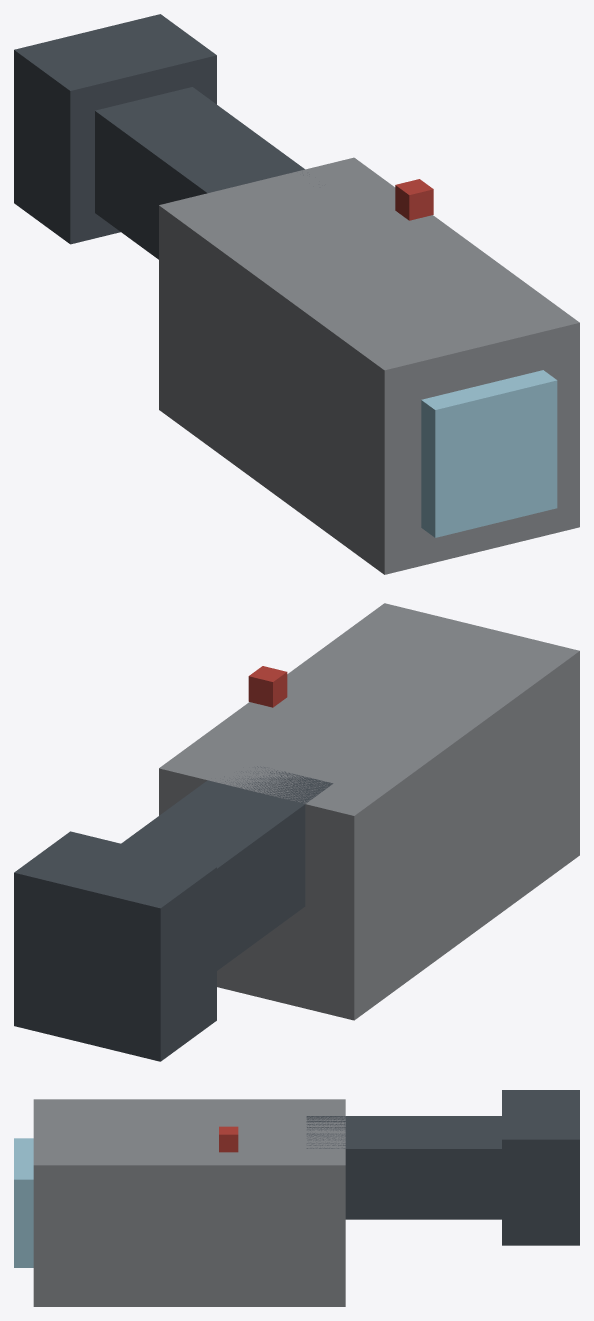
The model's file is GD_SecurityCamera_01.glb.
3 views of the same model, one above another, from view 1: azimuth 30°, elevation 25°; view 2: azimuth 150°, elevation 25°; view 3: azimuth 270°, elevation 25° (orthographic). The views are drawn at different scales.
Parts seen in each view (by area): view 1: GD_SecurityCamera_01; view 2: GD_SecurityCamera_01; view 3: GD_SecurityCamera_01.
Part boxes in pixels (box(x1,y1,x2,y2)): GD_SecurityCamera_01: box(14, 14, 579, 574); GD_SecurityCamera_01: box(14, 603, 579, 1061); GD_SecurityCamera_01: box(14, 1090, 579, 1306).
Bounding box in the file's own units: 0.08 × 0.095 × 0.29.
1 material, 1 textured.
